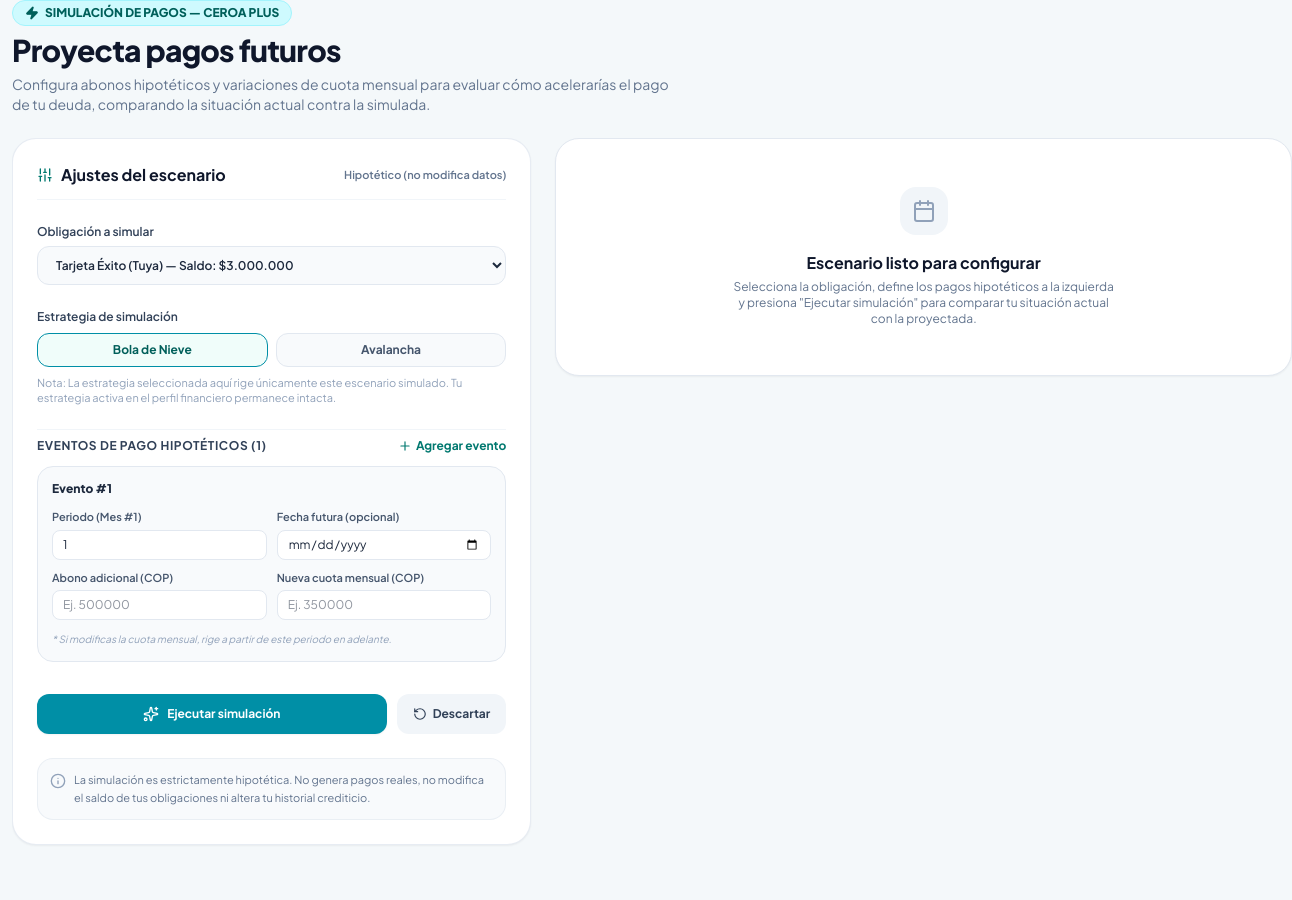
Scenario: EP-11 — Simulación de pagos (HU-045, HU-046, HU-047) › HU-046: Comparar situación actual contra simulada › Maneja estado INSUFFICIENT_DATA con mensaje claro y sin cifras ficticias
Type "500000" into the number field with placeholder "Ej. 500000" at (159, 605), box [52,590,267,620]
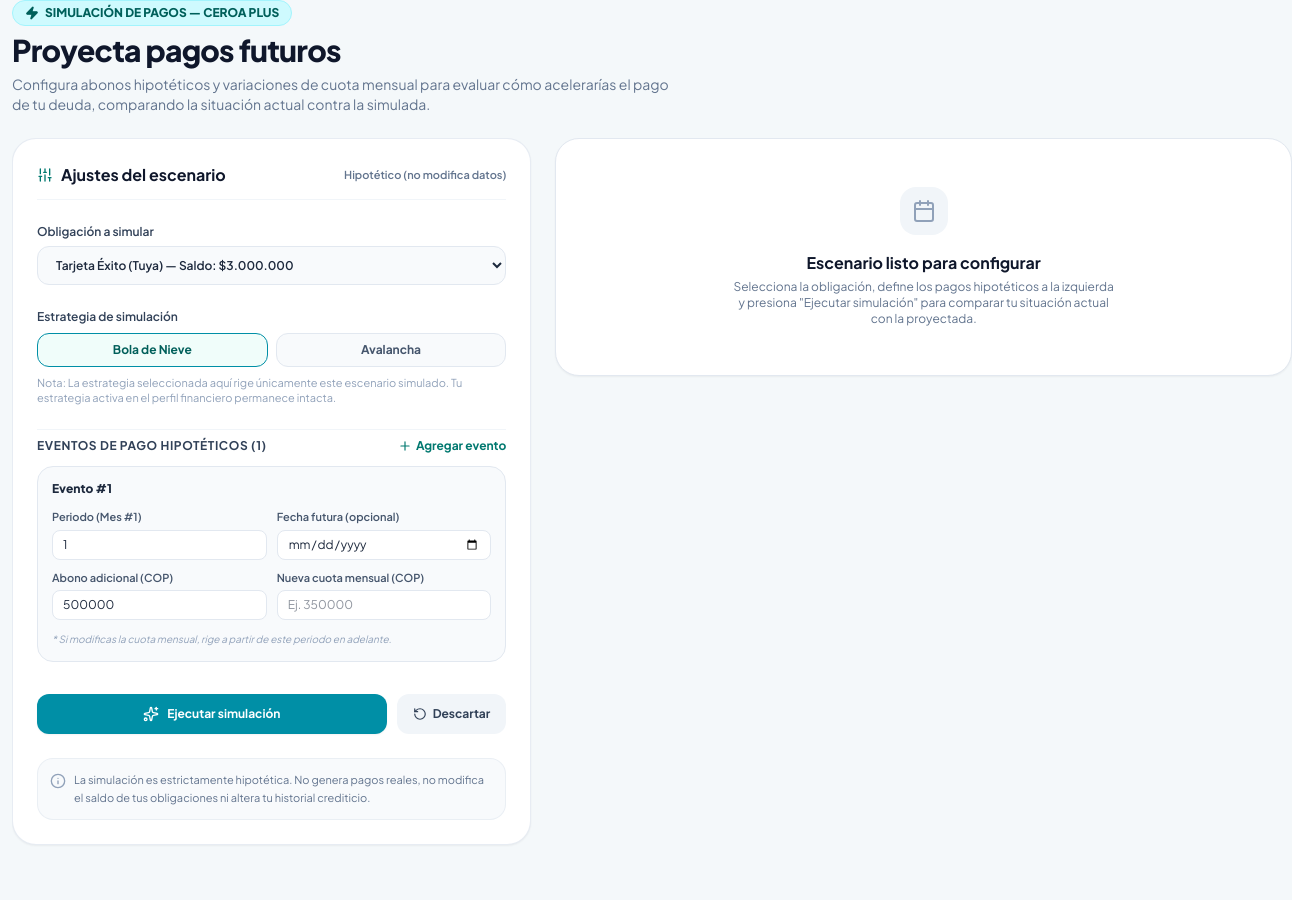
Click the button "Ejecutar simulación" at (212, 714), box [37,694,387,734]
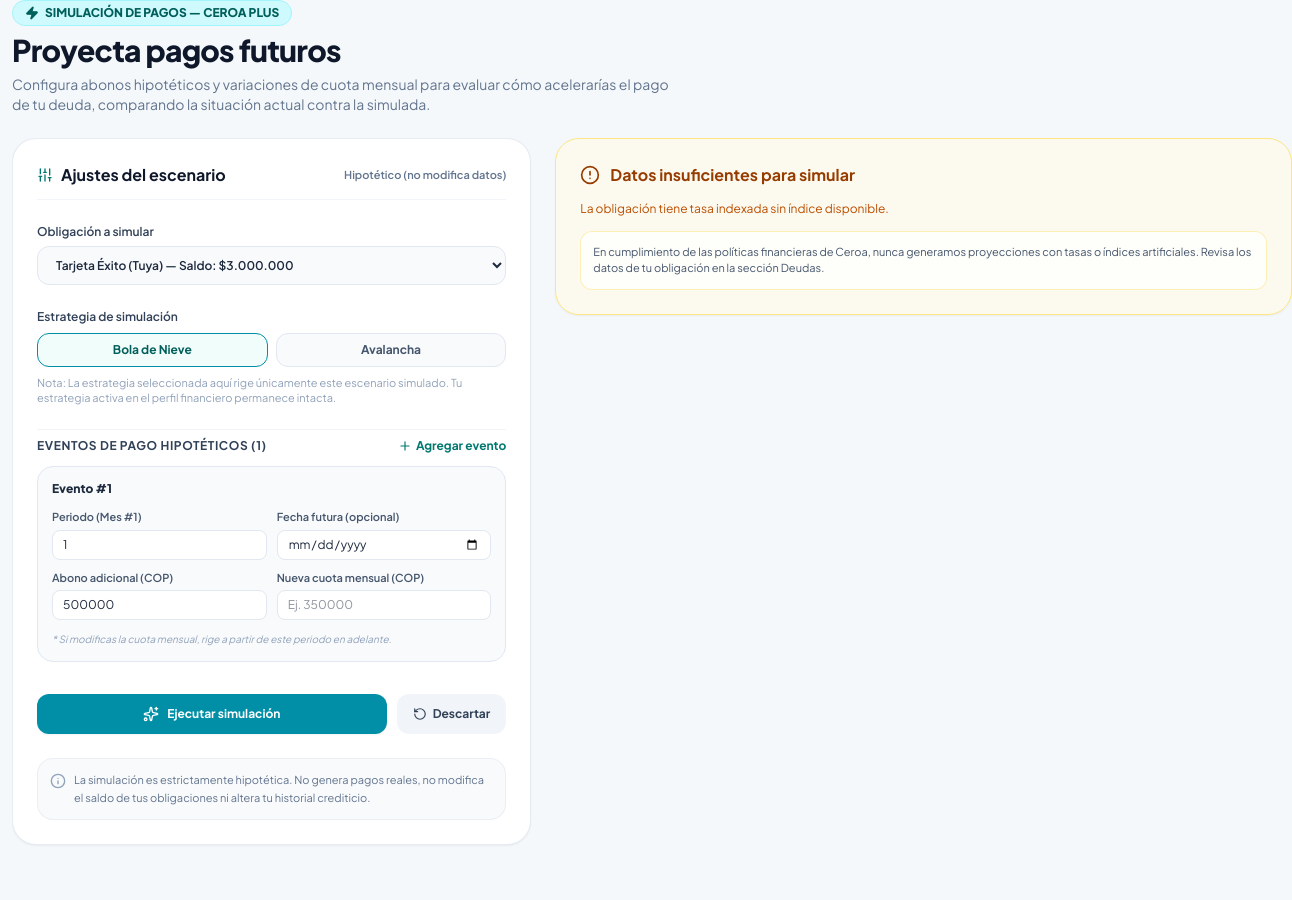
Now the heading "Datos insuficientes para simular" is shown, box [610,163,855,187]
Now the text "La obligación tiene tasa indexada sin índice disponible." is shown, box [580,201,889,216]
